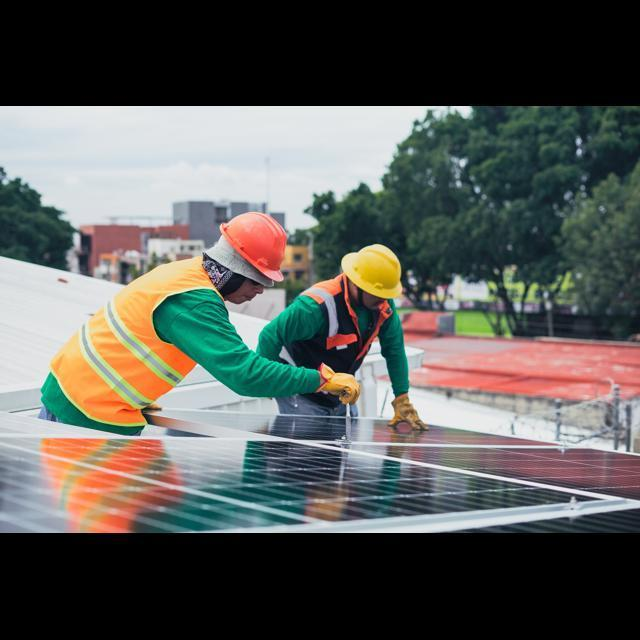Capacete: (220, 212, 286, 281), (341, 244, 401, 298)
Colete: (51, 257, 219, 429), (280, 274, 392, 373)
